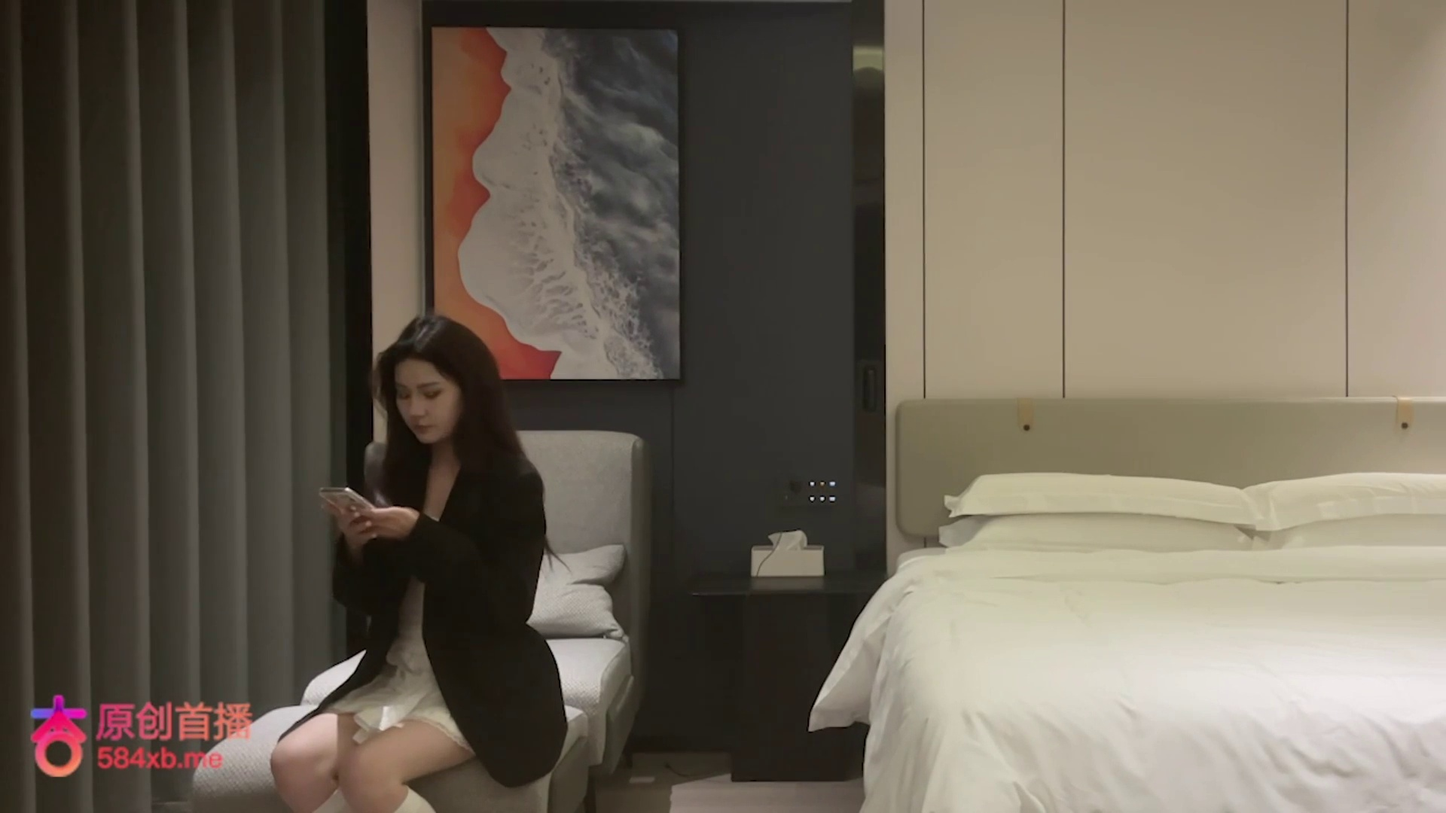sit: (269, 312, 567, 809)
